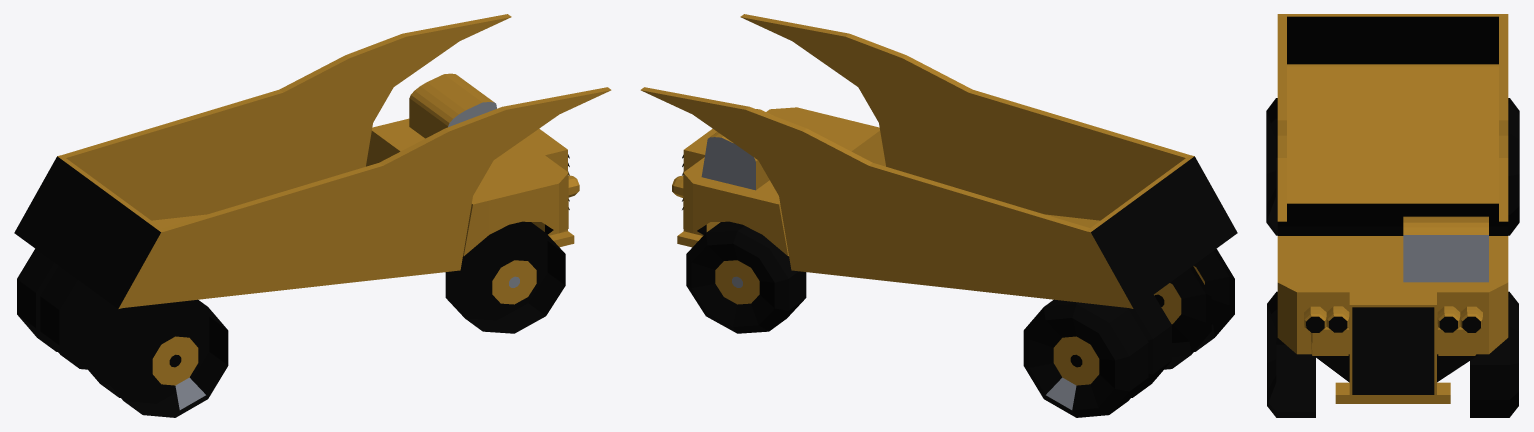
Rendered from cat 793f haul truck.glb.
3 renders of one model, left to right at view 1: azimuth 30°, elevation 25°; view 2: azimuth 150°, elevation 25°; view 3: azimuth 270°, elevation 25°, orthographic. The views are drawn at different scales.
Visible parts, largest first — view 1: Cube.023; view 2: Cube.023; view 3: Cube.023.
Part boxes in pixels (x1=…): Cube.023: x1=14, y1=14, x2=611, y2=417; Cube.023: x1=640, y1=14, x2=1237, y2=417; Cube.023: x1=1266, y1=14, x2=1519, y2=417.
Size of the model in its own units: 18.2 by 7.99 by 7.3.
